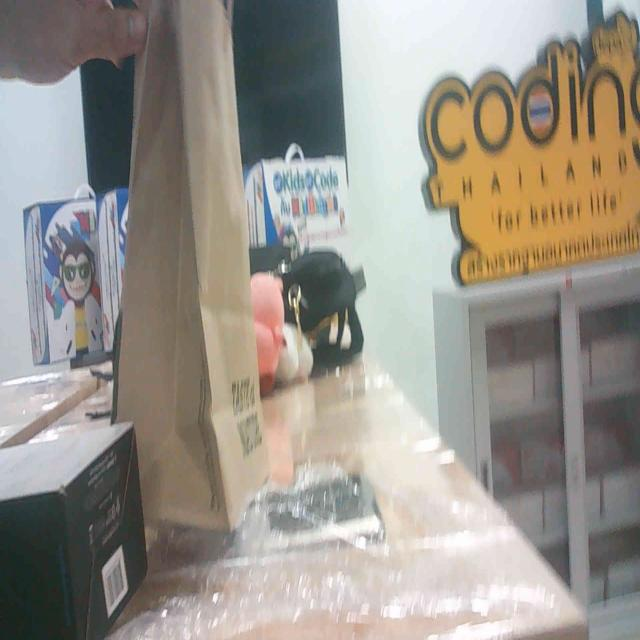bag: (115, 0, 247, 512)
